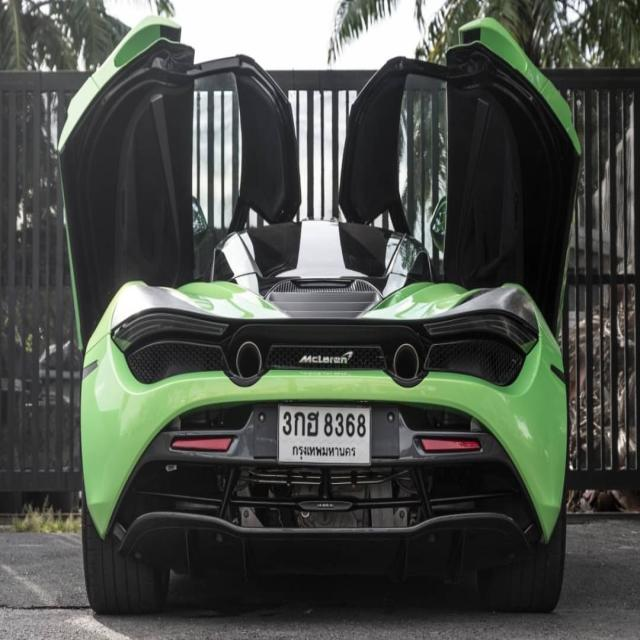license_plate: (277, 399, 373, 467)
